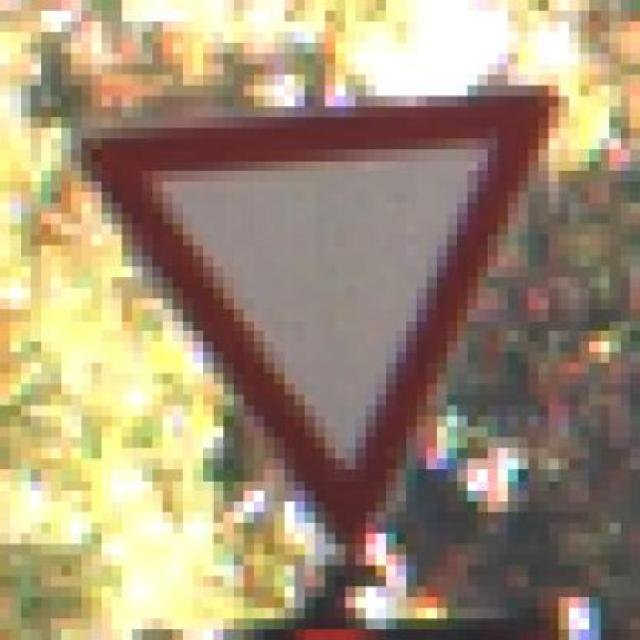Give Way: (51, 74, 569, 566)
